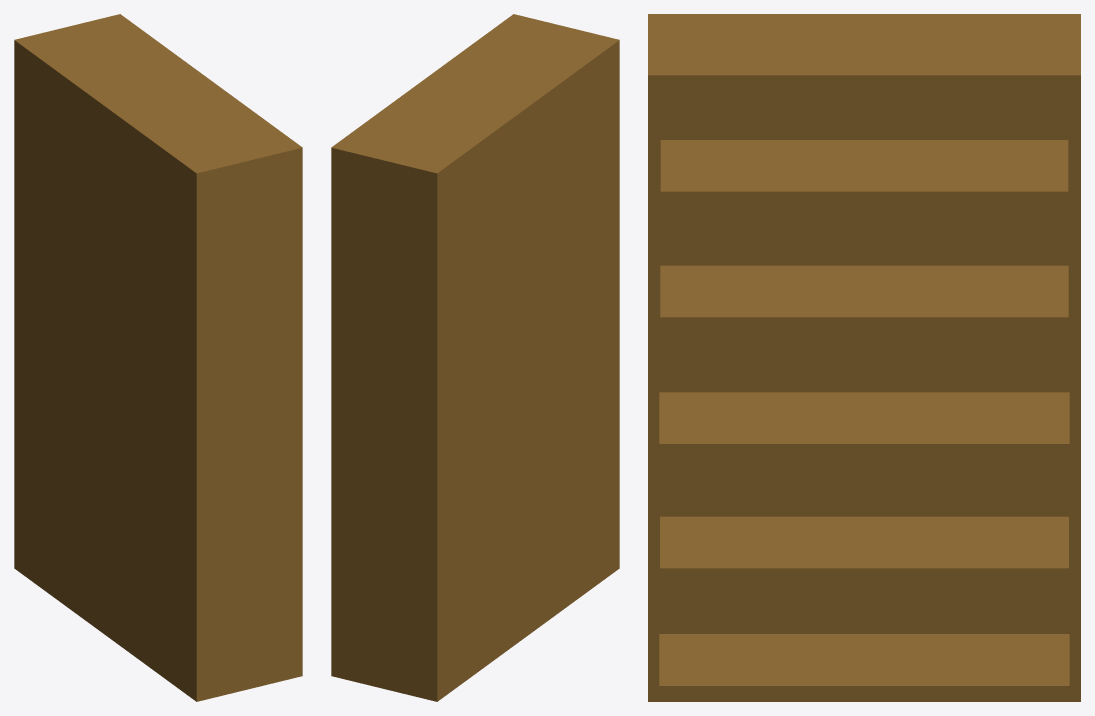
Rendered from bookshelf.glb.
3 views of the same model, side by side, from view 1: azimuth 30°, elevation 25°; view 2: azimuth 150°, elevation 25°; view 3: azimuth 270°, elevation 25° (orthographic). The views are drawn at different scales.
Visible parts, largest first — view 1: Cube; view 2: Cube; view 3: Cube.
Boxes of the visible parts, bbox=[...] form: Cube: bbox=[14, 14, 302, 701]; Cube: bbox=[331, 14, 619, 701]; Cube: bbox=[648, 14, 1080, 701].
Bounding box in the file's own units: 1.84 × 8.75 × 5.48.
